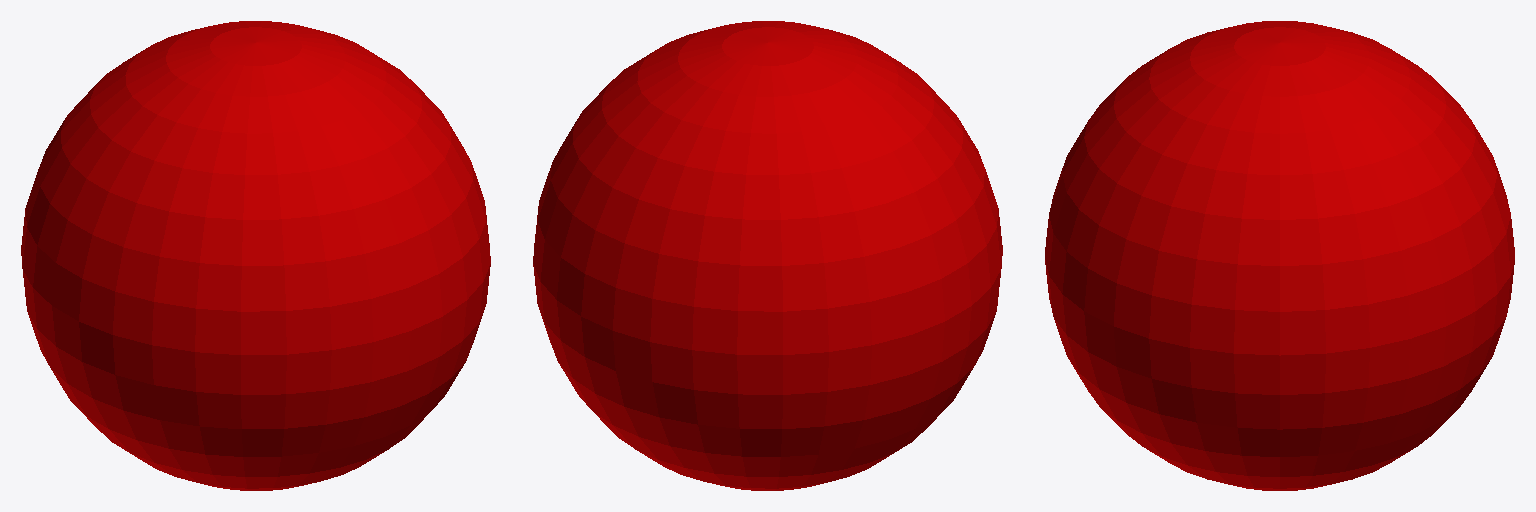
Rendered from Alpha.obj.
The picture shows the model from 3 angles: view 1: azimuth 30°, elevation 25°; view 2: azimuth 150°, elevation 25°; view 3: azimuth 270°, elevation 25°; orthographic projection.
Visible parts, largest first — view 1: Sphere; view 2: Sphere; view 3: Sphere.
Part boxes in pixels (left/top/right/bottom): Sphere: left=21, top=21, right=490, bottom=490; Sphere: left=533, top=21, right=1002, bottom=490; Sphere: left=1045, top=21, right=1514, bottom=490.
Size of the model in its own units: 6 by 6 by 6.